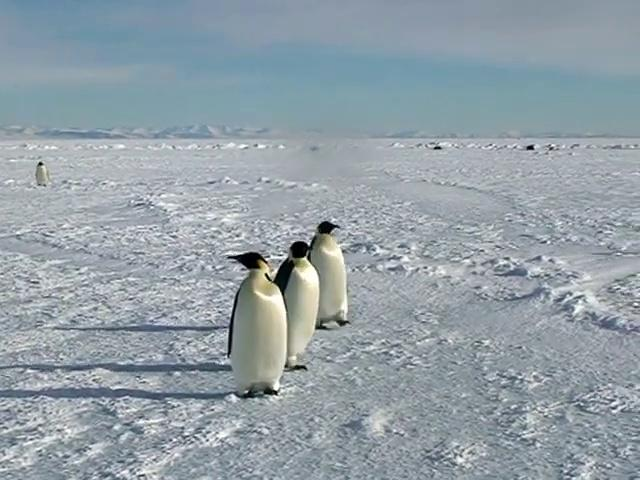animal: (310, 221, 348, 327)
